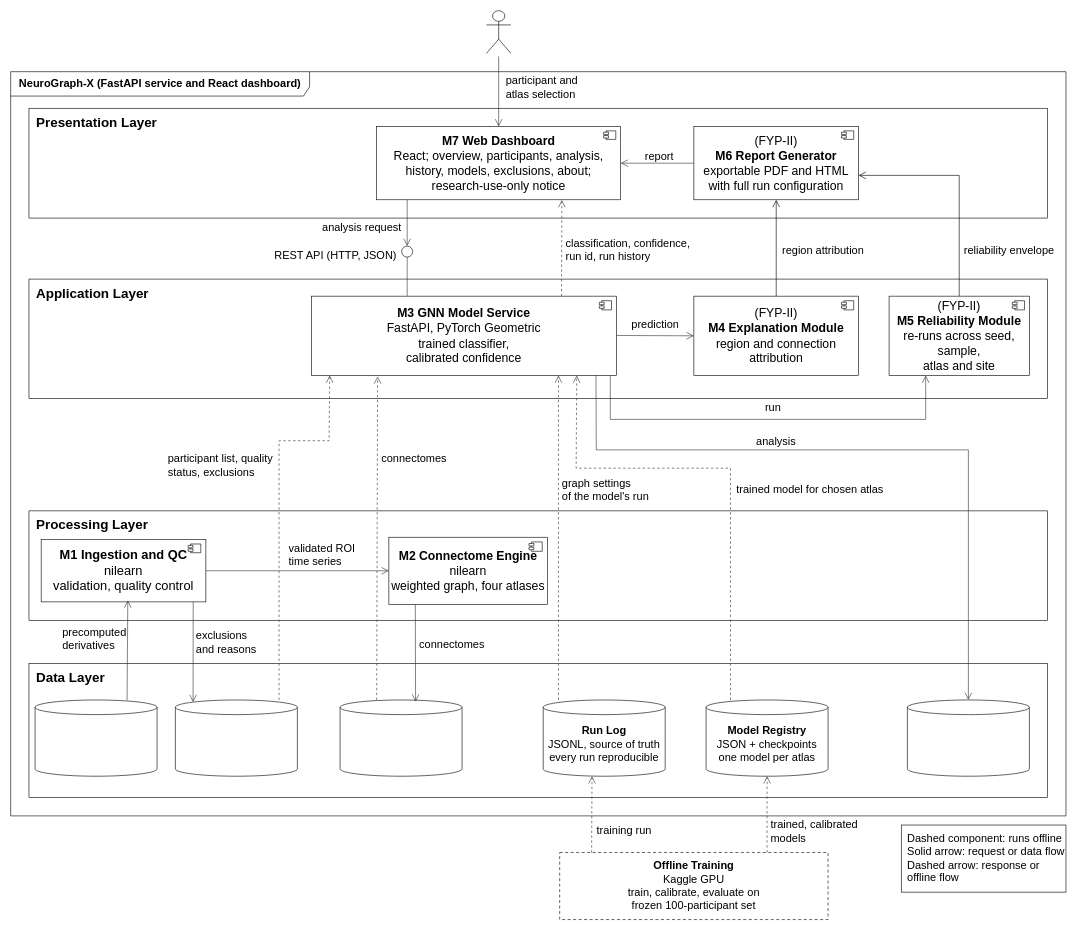
The diagram is 1077 pixels wide and 930 high, and some of its shapes have lost their labels. The centre of each missing label's shape, as x and y in pixels:
ABIDE Preprocessed 1,112 participants, 20 sites (external open dataset): (x=95, y=737)
Analysis Log JSONL, one record per analysis: (x=968, y=737)
Connectomes four atlases (.npz files) built once, loaded per request: (x=400, y=737)
QC outputs cohort table and exclusion log (CSV): (x=236, y=737)
Research User: (x=498, y=31)
